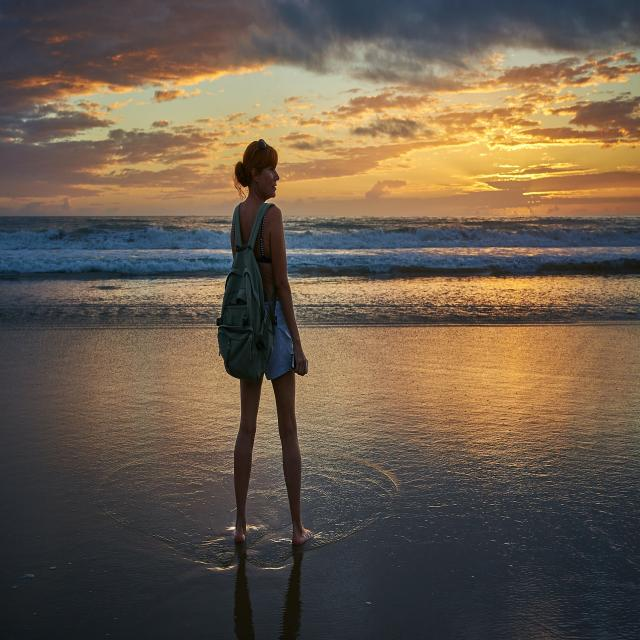standing: (228, 137, 311, 550)
